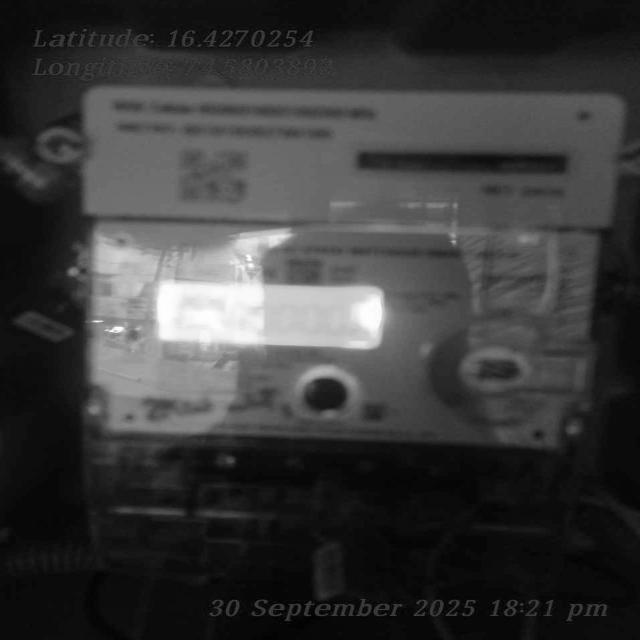meter: (87, 85, 617, 449)
